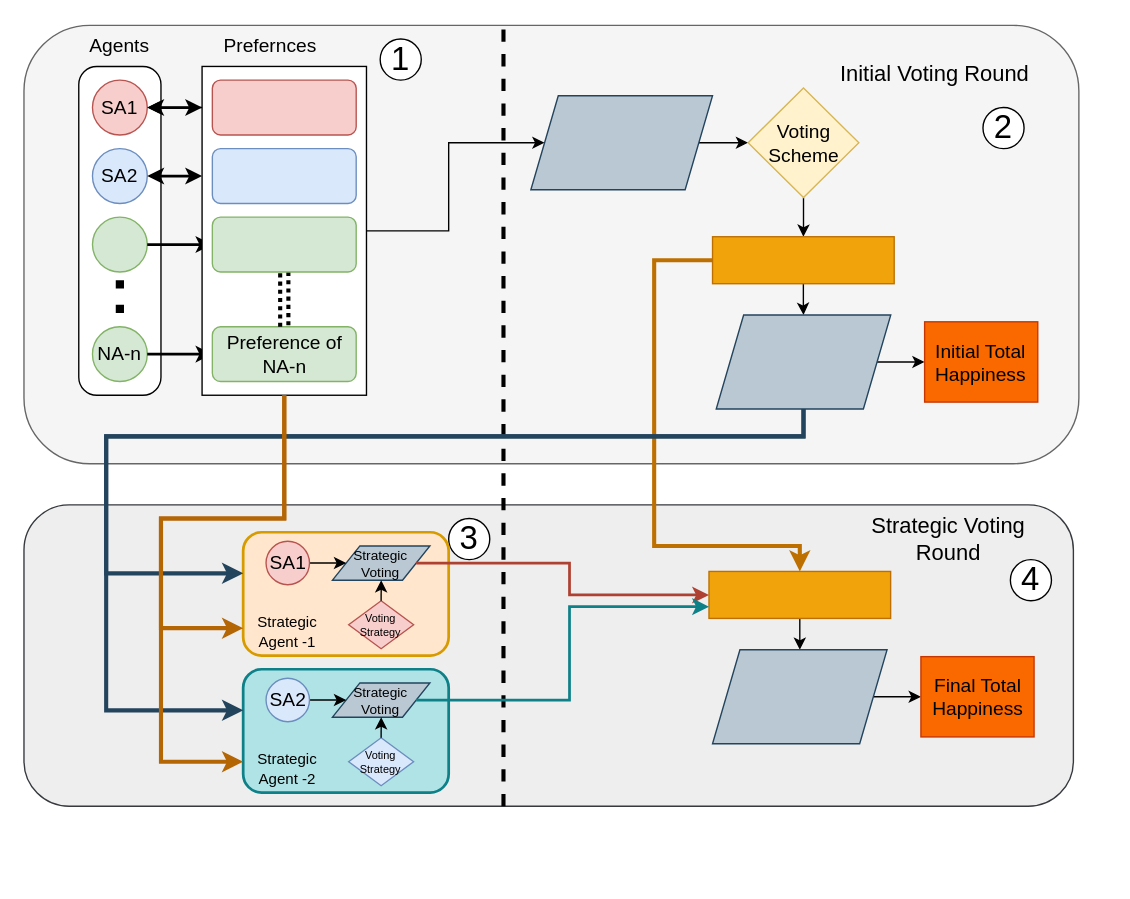
Image size: 1130x899. Some labels were removed from this diagram. Each missing label, with the centre of its shape:
"Calculate Final Results" belongs at [799,696].
"Calculate Initial Results" belongs at [803,361].
"Collect Preferences of All Agents" belongs at [621,142].
"Final Votes" belongs at [799,594].
"Initial Votes" belongs at [802,259].
"NA2" belongs at [119,244].
"Preference of NA2" belongs at [283,244].
"Preference of SA1" belongs at [283,107].
"Preference of SA2" belongs at [283,175].
